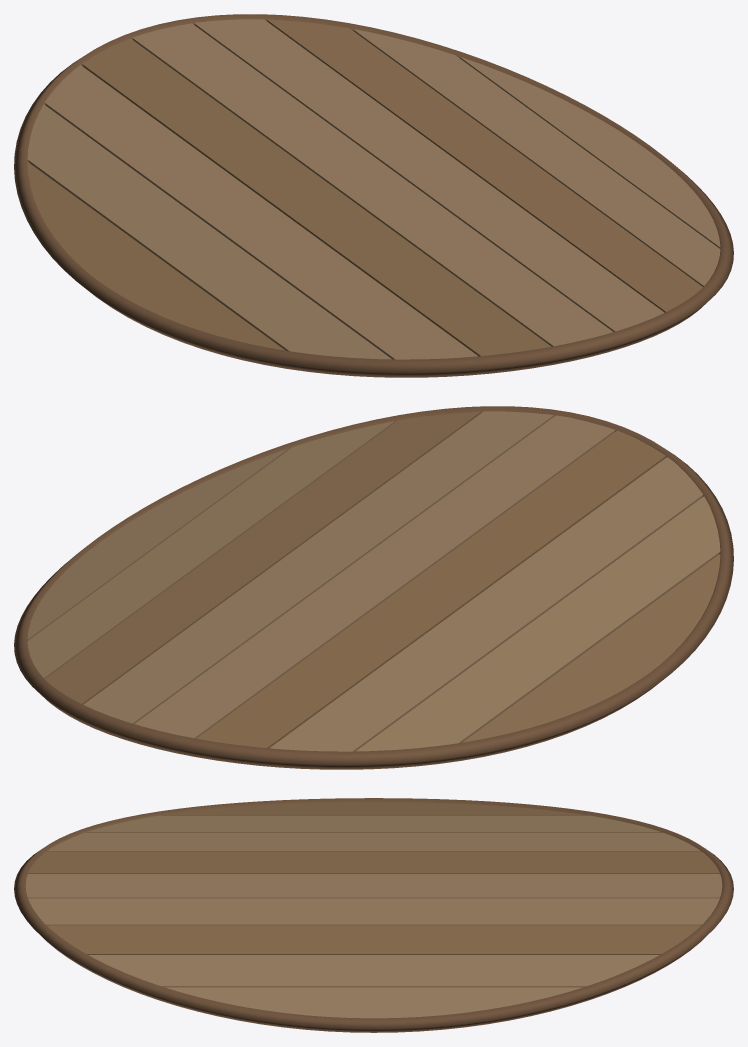
Rendered from watch_wood_shield.glb.
The picture shows the model from 3 angles, top to bottom: view 1: azimuth 30°, elevation 25°; view 2: azimuth 150°, elevation 25°; view 3: azimuth 270°, elevation 25°; orthographic projection. The views are drawn at different scales.
Visible parts, largest first — view 1: watch_wood_shield; view 2: watch_wood_shield; view 3: watch_wood_shield.
Part boxes in pixels (box(x1,y1,x2,y2)): watch_wood_shield: box(14, 14, 733, 377); watch_wood_shield: box(14, 406, 733, 769); watch_wood_shield: box(14, 798, 733, 1032).
Bounding box in the file's own units: 0.47 × 0.0974 × 0.6299.
